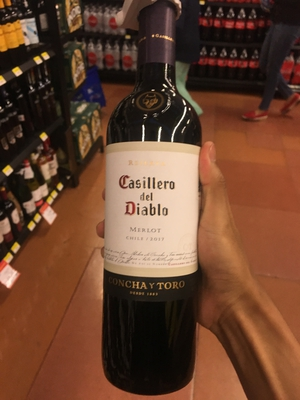casillero del diablo merlot: (94, 10, 205, 385)
